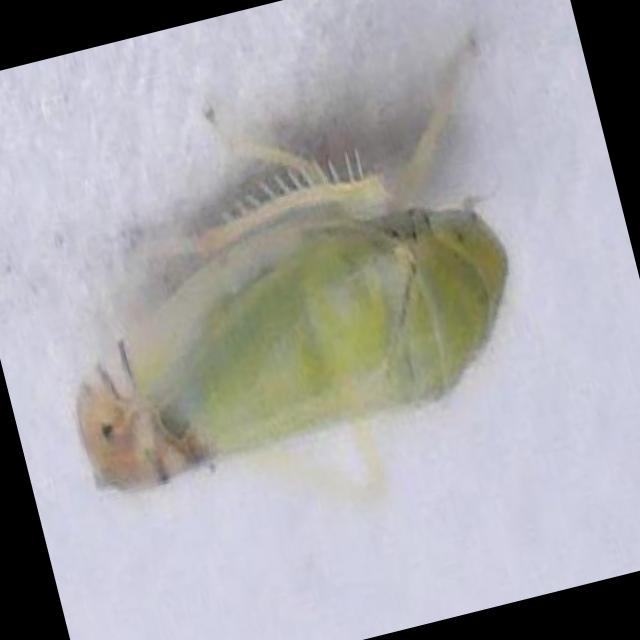green-leafhopper: (39, 165, 536, 502)
